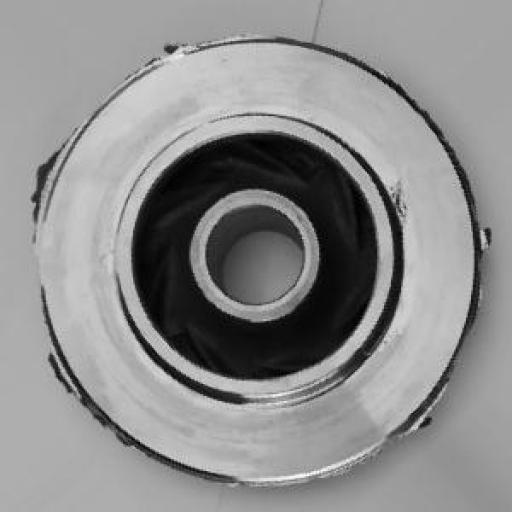defect: (32, 18, 497, 487)
